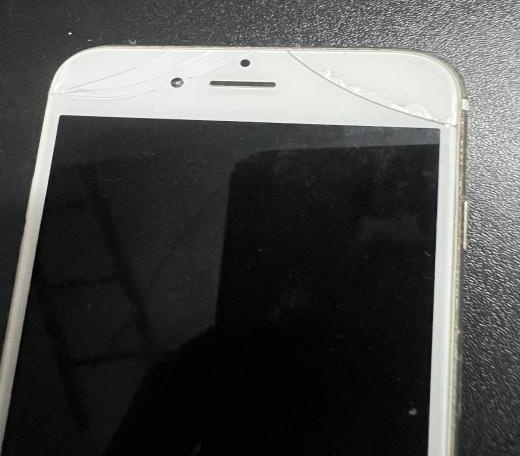physical_damage: (284, 47, 460, 130), (46, 49, 261, 99)
scratch: (405, 405, 420, 417)
